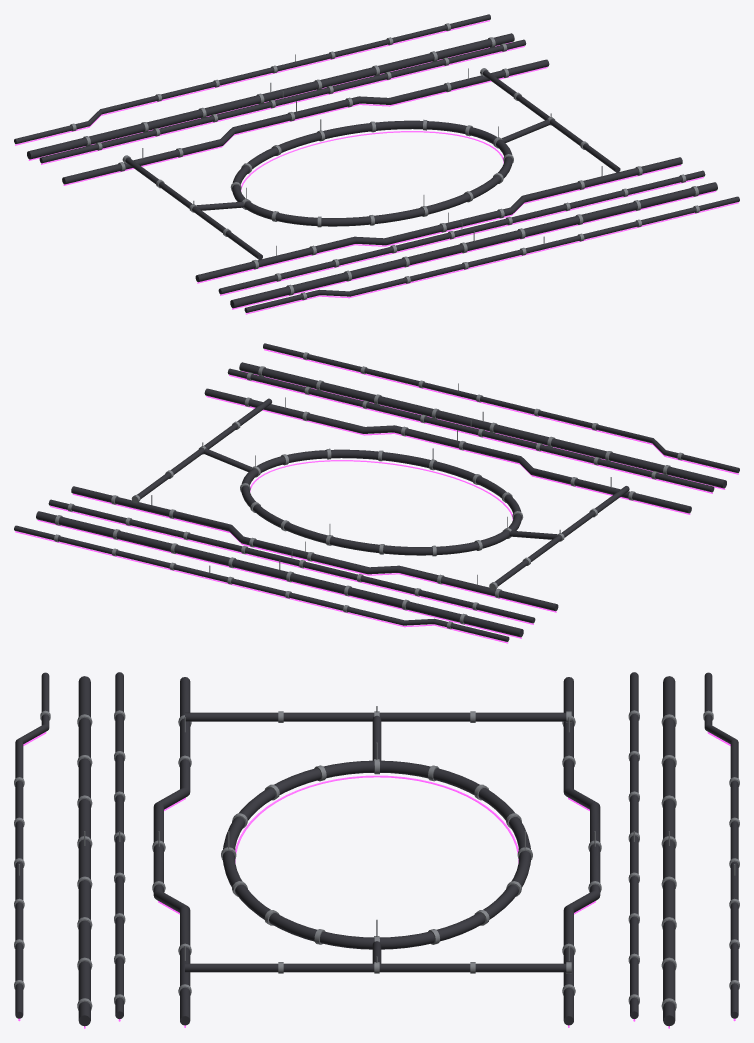
File: JAC_36_Tubulacao.glb
The picture shows the model from 3 angles, top to bottom: view 1: azimuth 30°, elevation 25°; view 2: azimuth 150°, elevation 25°; view 3: azimuth 270°, elevation 25°; orthographic projection. The views are drawn at different scales.
Parts seen in each view (by area): view 1: JAC_36_Tubulacao; view 2: JAC_36_Tubulacao; view 3: JAC_36_Tubulacao.
Boxes of the visible parts, x1=… form: JAC_36_Tubulacao: x1=14, y1=14, x2=739, y2=314; JAC_36_Tubulacao: x1=14, y1=343, x2=739, y2=643; JAC_36_Tubulacao: x1=14, y1=672, x2=739, y2=1028.
Size of the model in its own units: 9.2 by 0.402 by 8.32.
